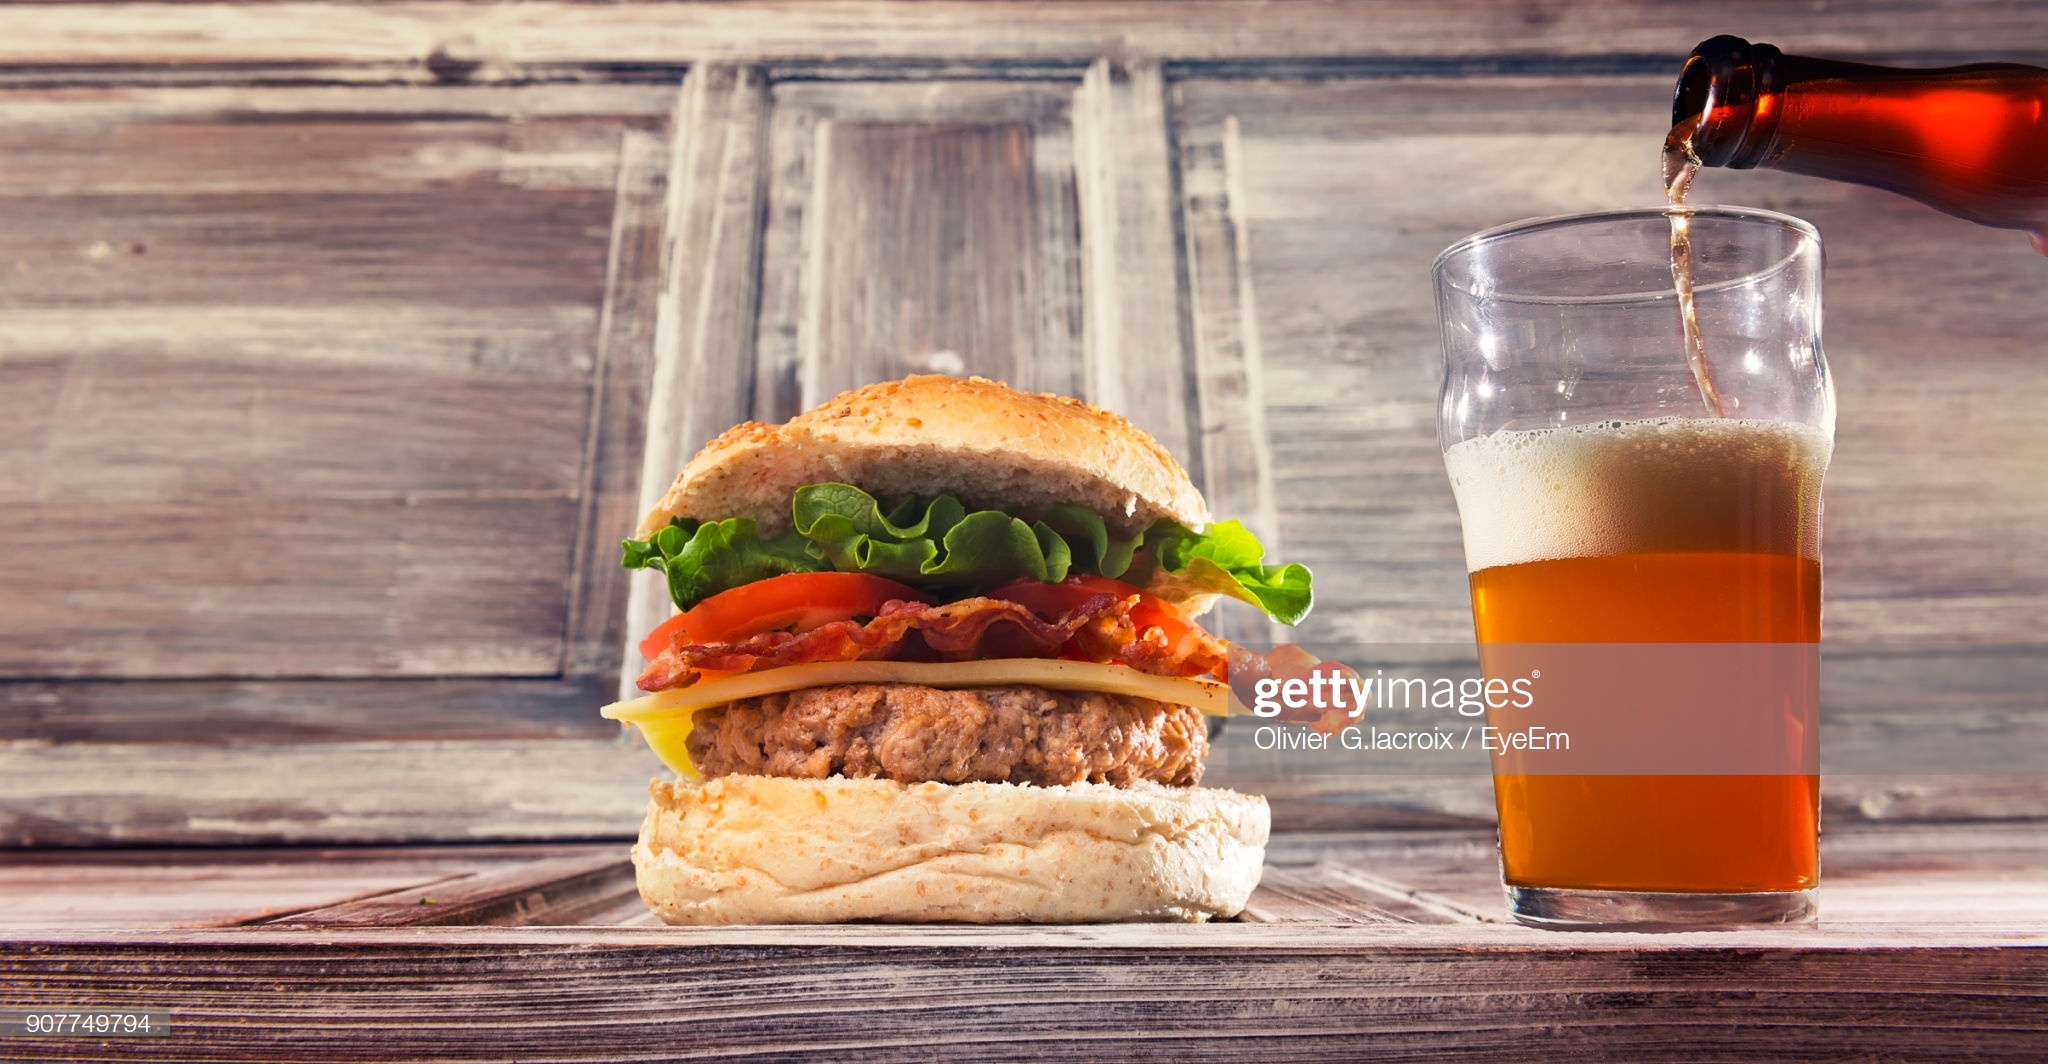glassBeer: (1438, 213, 1848, 927)
